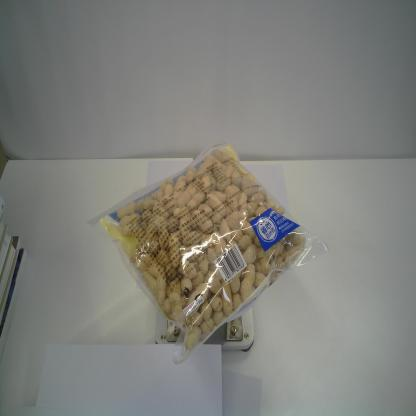Dried Food: (84, 138, 334, 366)
